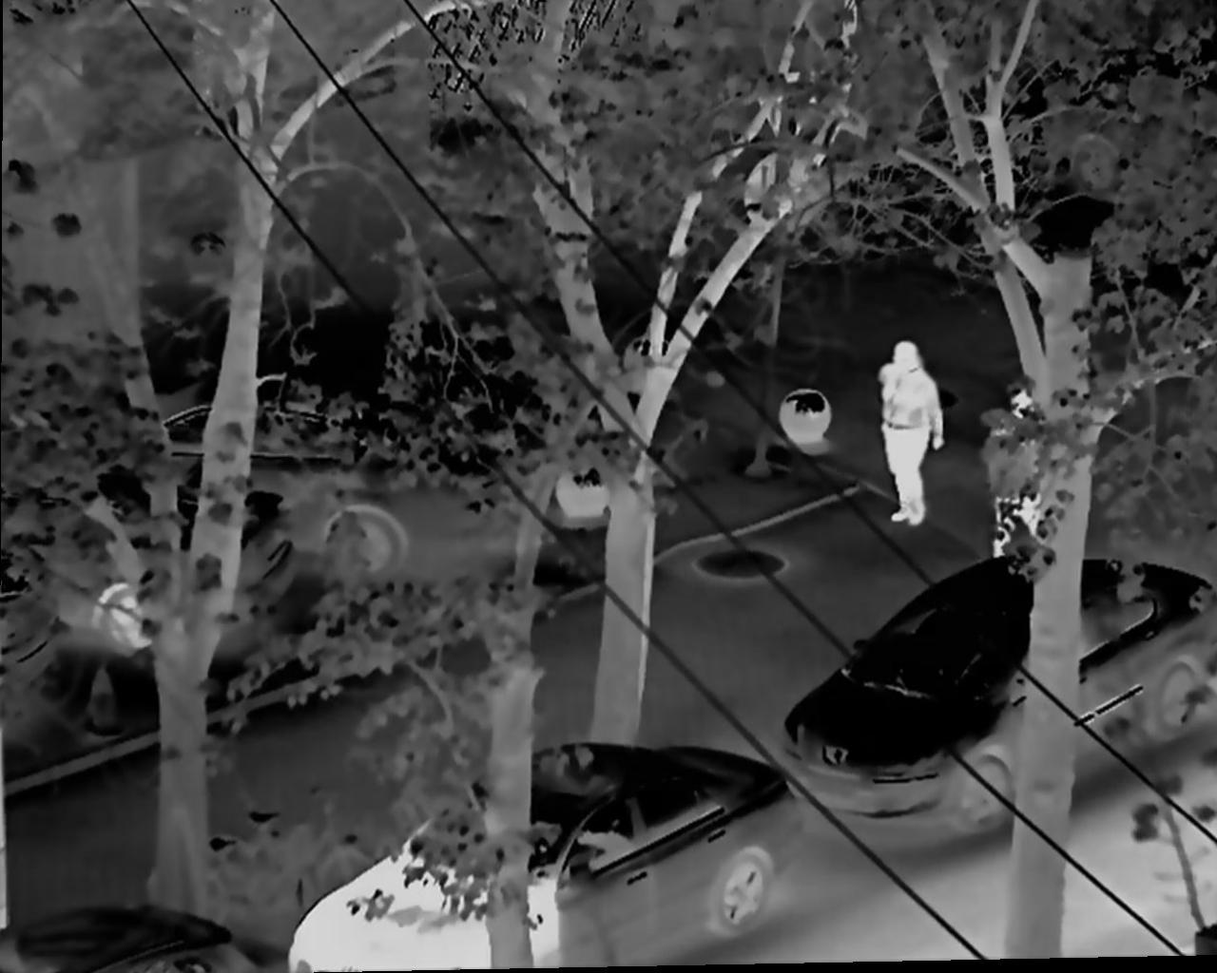person: (863, 340, 948, 530), (995, 382, 1050, 582)
